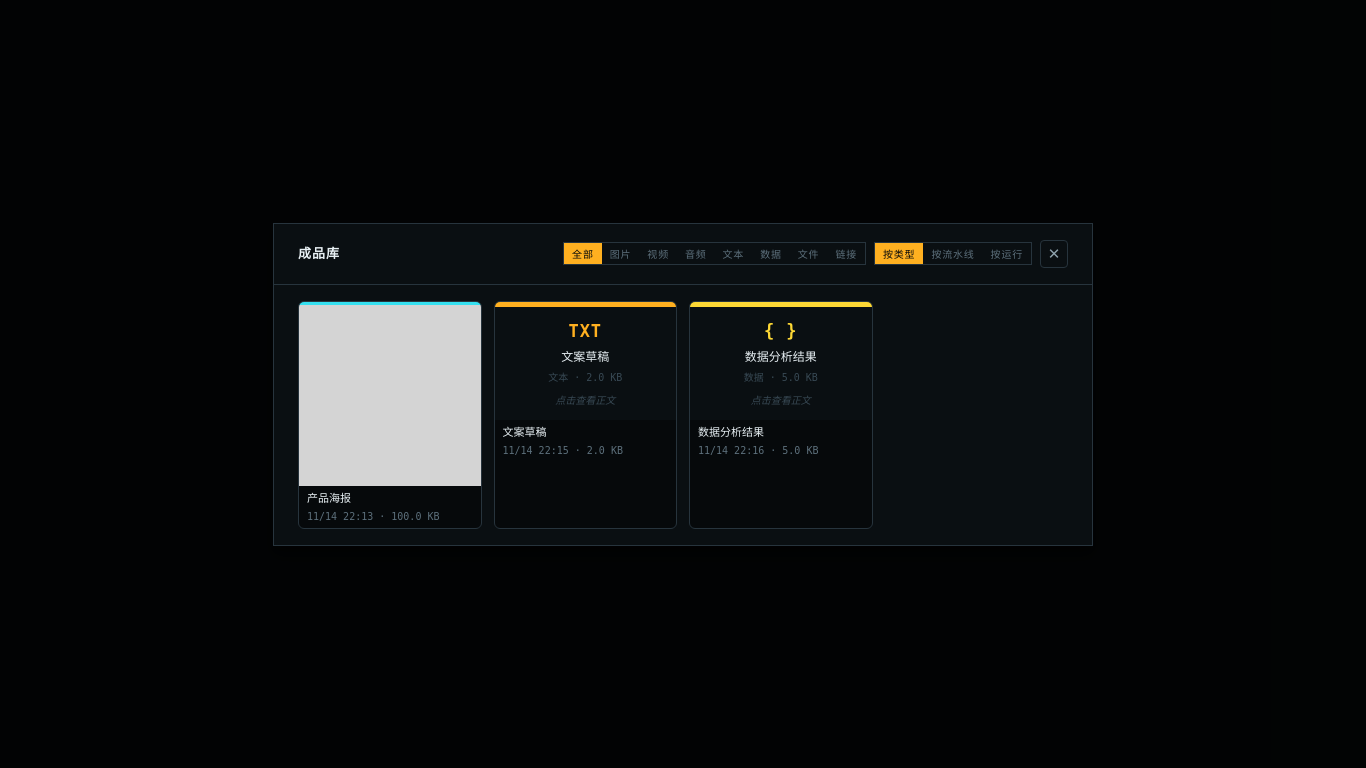
ProductGallery › 视图切换 › 按流水线视图按 graphName 分组显示
Check: the text "产品海报" is shown, box [307,490,351,505]
Click the button "按流水线" at (953, 254), box [923,243,983,264]
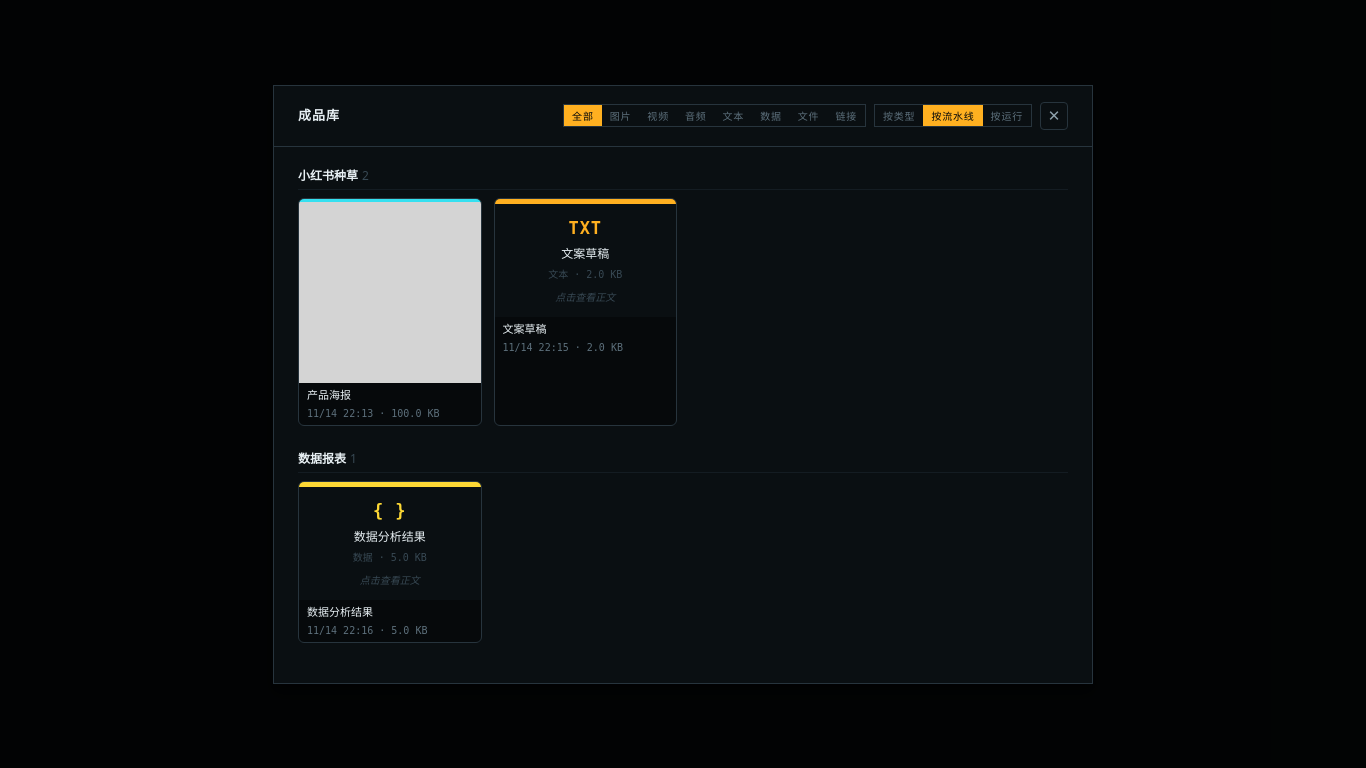
Check: the heading "小红书种草2" is shown, box [298,166,1068,190]
Check: the heading "数据报表1" is shown, box [298,450,1068,472]
Check: the text "2" is shown, box [362,166,369,184]
